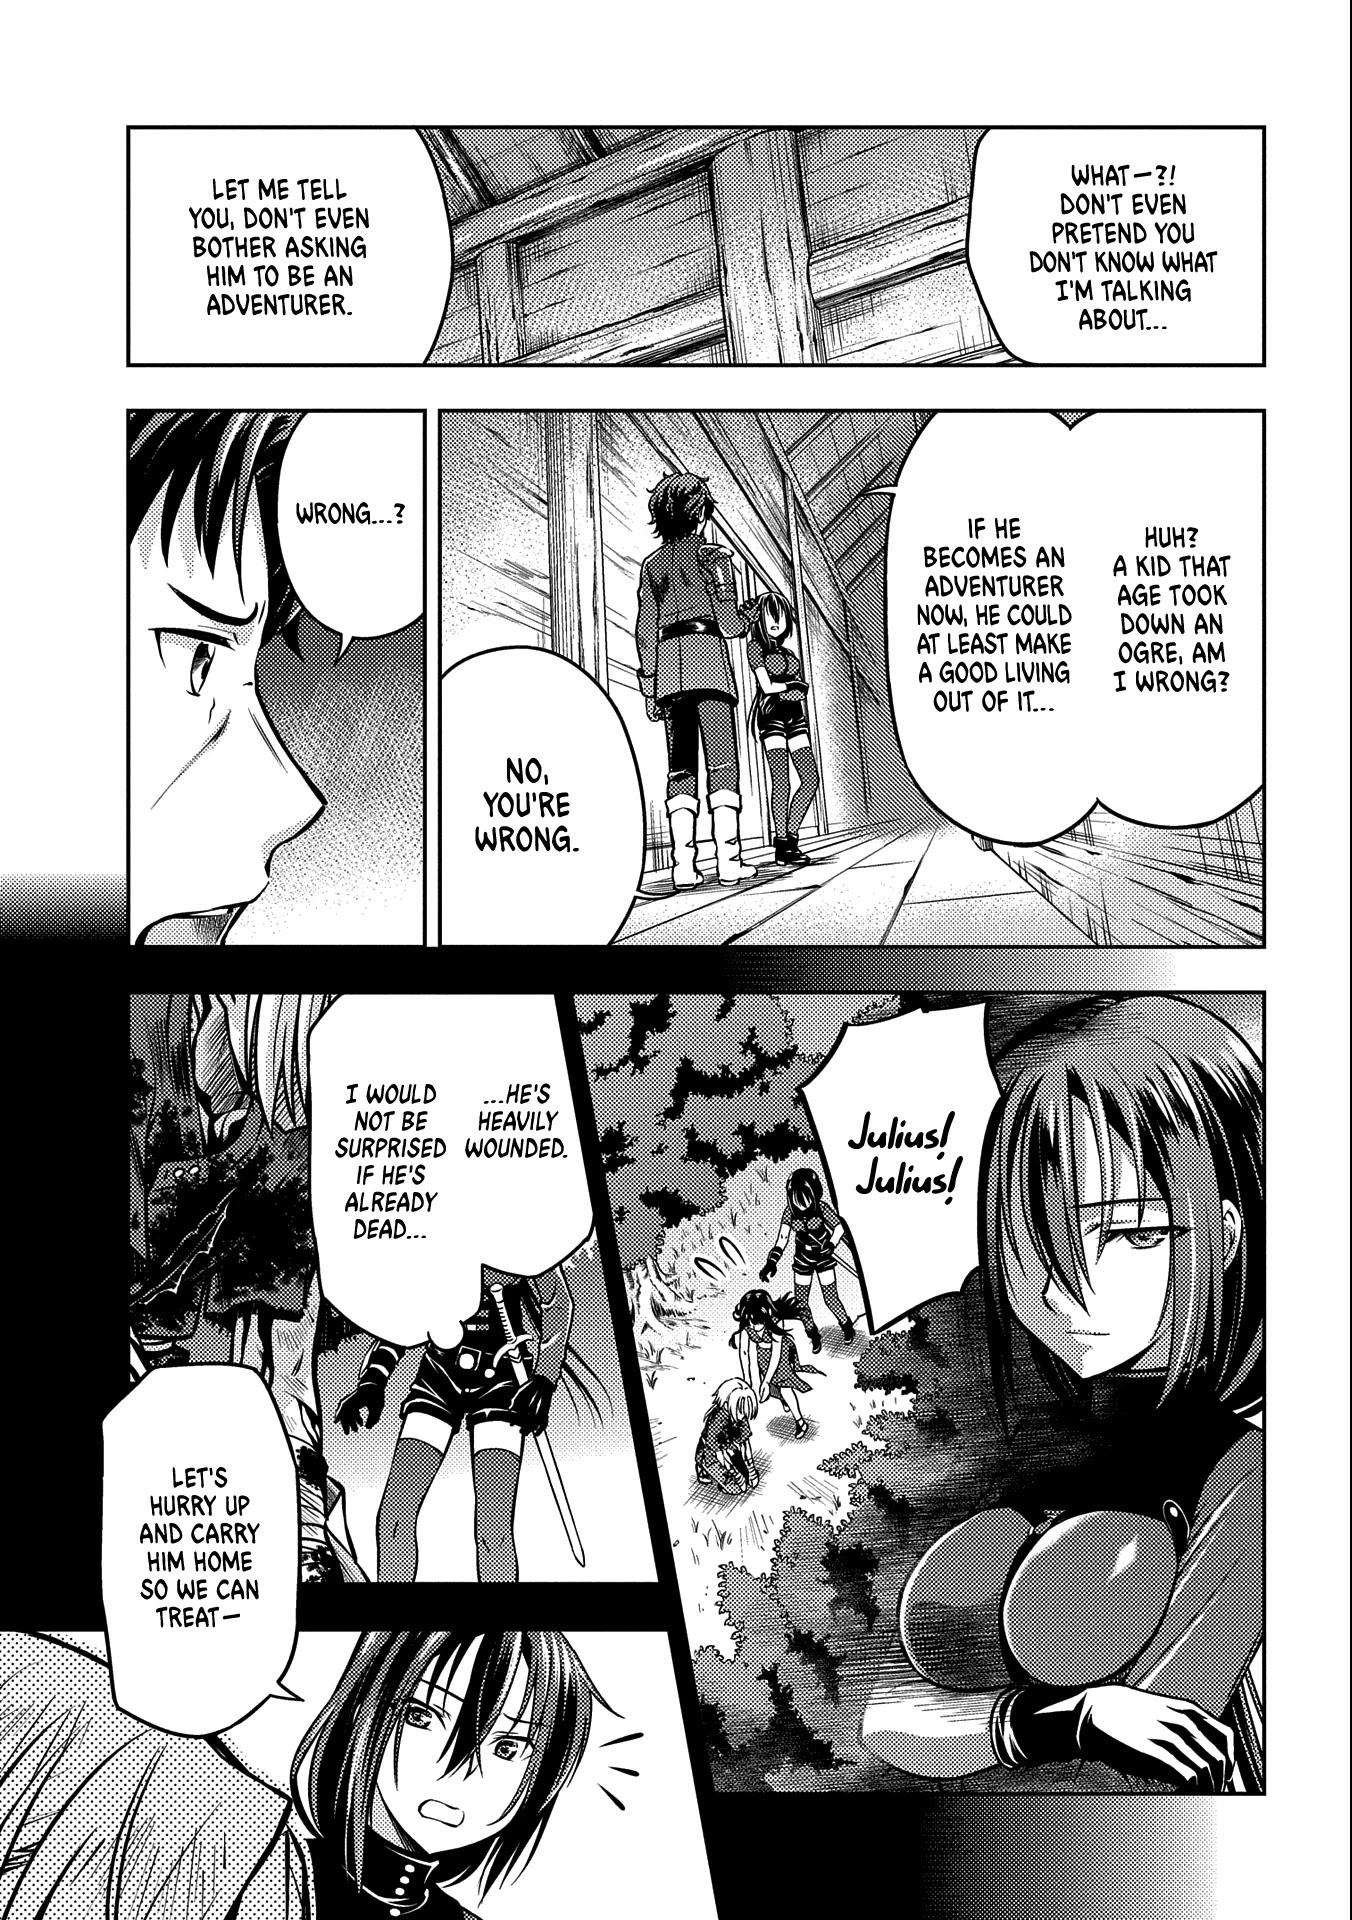Bubble: (881, 402, 1096, 849), (119, 120, 461, 373), (97, 1358, 304, 1743), (961, 117, 1273, 373), (1092, 400, 1273, 834), (796, 998, 1011, 1338), (432, 642, 648, 950), (301, 985, 459, 1355), (462, 988, 598, 1279), (274, 410, 432, 644)
